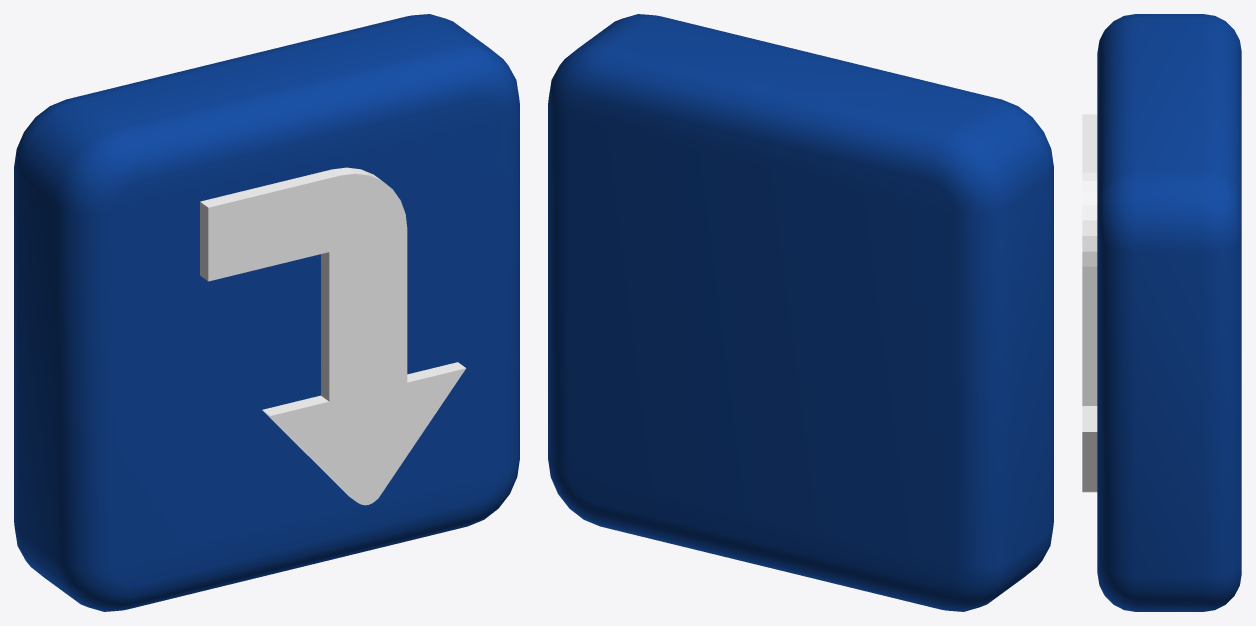
Rendered from right_arrow_curving_down.glb.
3 views of the same model, side by side, from view 1: azimuth 30°, elevation 25°; view 2: azimuth 150°, elevation 25°; view 3: azimuth 270°, elevation 25° (orthographic). The views are drawn at different scales.
Parts seen in each view (by area): view 1: Cube.6339; view 2: Cube.6339; view 3: Cube.6339.
Boxes of the visible parts, bbox=[...] form: Cube.6339: bbox=[14, 14, 519, 611]; Cube.6339: bbox=[548, 14, 1053, 611]; Cube.6339: bbox=[1082, 14, 1241, 611].
Bounding box in the file's own units: 2.2 × 2.2 × 0.73.
1 material, 1 textured.
